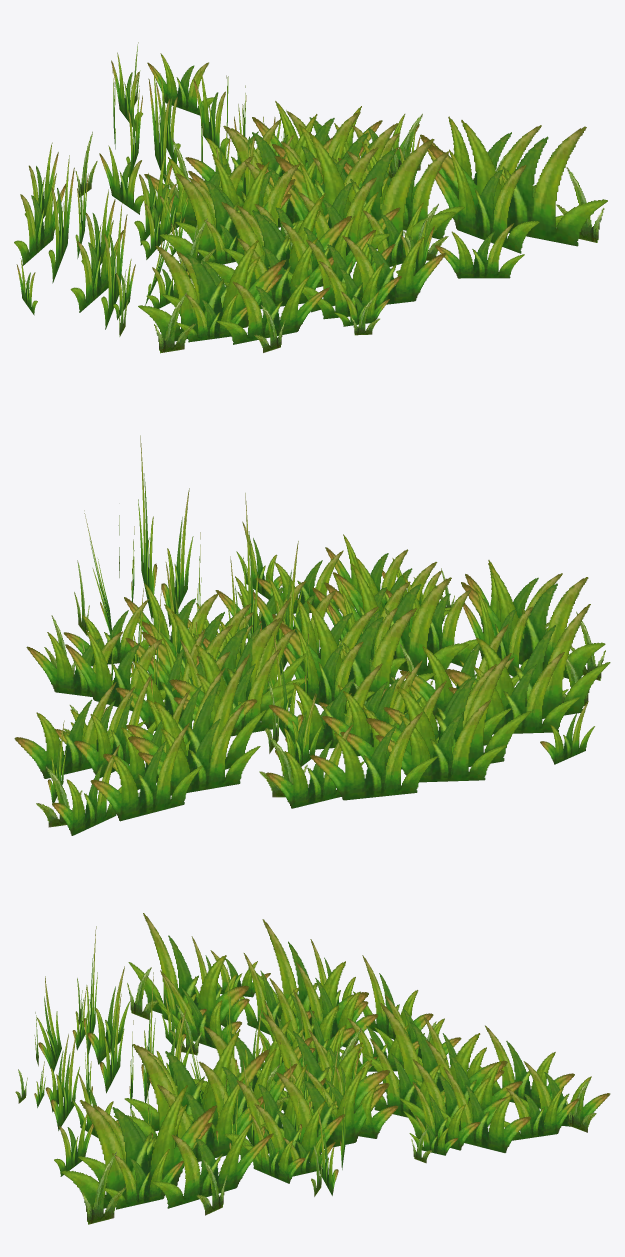
File: obj_macoprgr07-02.glb
3 views of the same model, one above another, from view 1: azimuth 30°, elevation 25°; view 2: azimuth 150°, elevation 25°; view 3: azimuth 270°, elevation 25° (orthographic). The views are drawn at different scales.
Parts seen in each view (by area): view 1: part_0; view 2: part_0; view 3: part_0.
Boxes of the visible parts, bbox=[...] form: part_0: bbox=[14, 42, 607, 353]; part_0: bbox=[14, 435, 610, 835]; part_0: bbox=[15, 913, 610, 1224].
Size of the model in its own units: 3.25 by 1.05 by 3.48.
2 materials, 2 textured.
